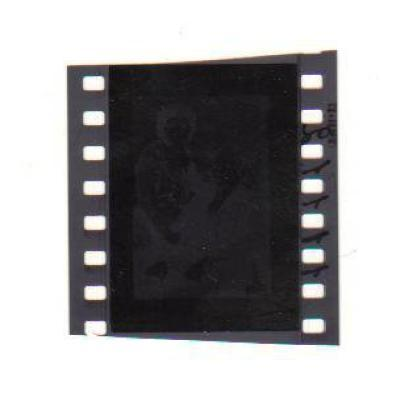photos_negatives: (110, 68, 304, 327)
